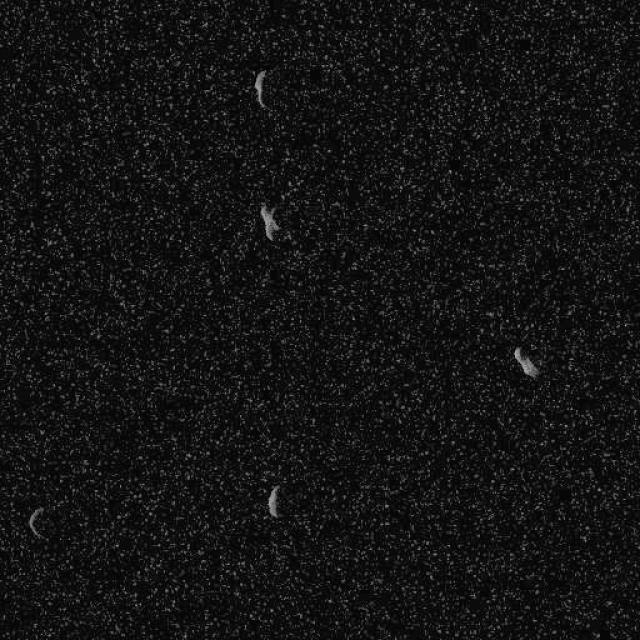D2: (512, 344, 540, 378), (258, 201, 280, 241), (252, 69, 268, 110), (26, 505, 45, 539), (266, 483, 280, 518)
